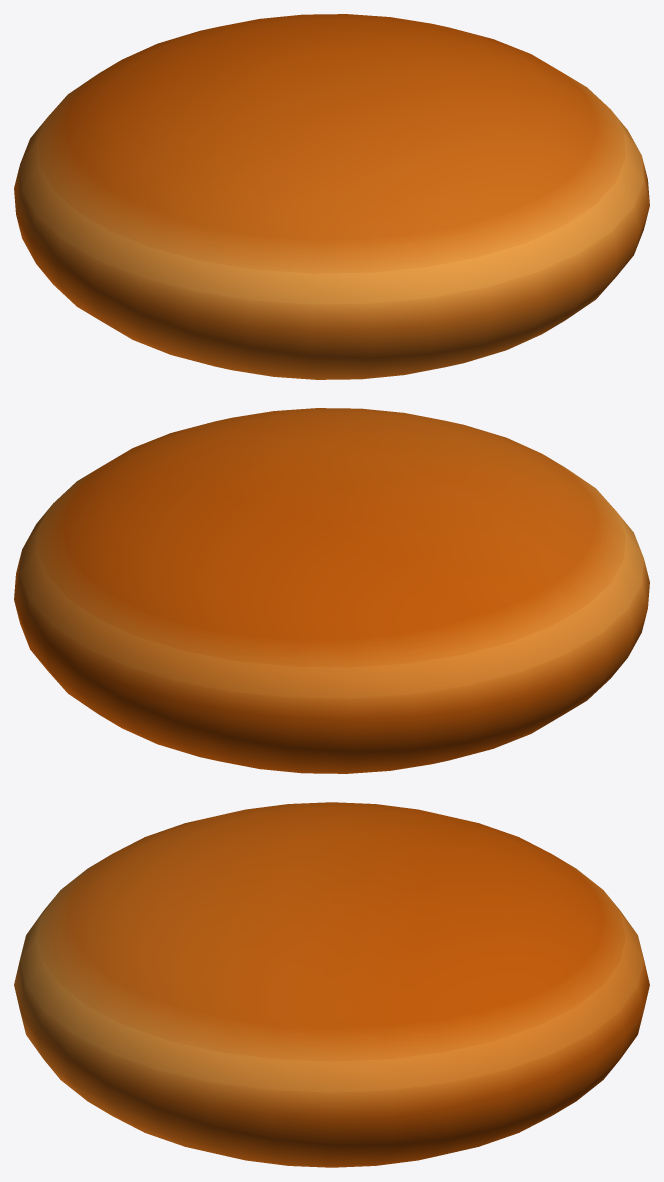
File: Bonibon_04.fbx
3 views of the same model, one above another, from view 1: azimuth 30°, elevation 25°; view 2: azimuth 150°, elevation 25°; view 3: azimuth 270°, elevation 25° (orthographic).
Parts seen in each view (by area): view 1: Bonibon_04; view 2: Bonibon_04; view 3: Bonibon_04.
Part boxes in pixels (x1,y1,x2,y2): Bonibon_04: (14, 14, 649, 379); Bonibon_04: (14, 408, 649, 773); Bonibon_04: (14, 802, 649, 1167).
Size of the model in its own units: 113 by 47.58 by 113.
